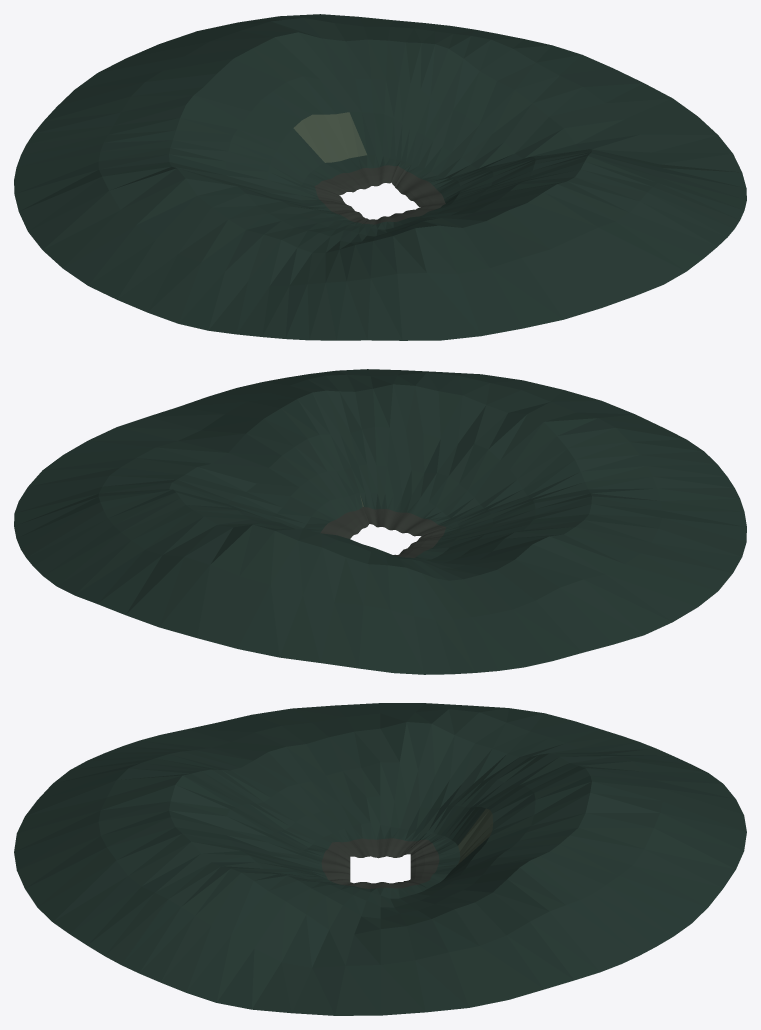
Rendered from SM_Forest_Horizon_Test_156000x156000x21520.fbx.
The picture shows the model from 3 angles, top to bottom: view 1: azimuth 30°, elevation 25°; view 2: azimuth 150°, elevation 25°; view 3: azimuth 270°, elevation 25°; orthographic projection.
Visible parts, largest first — view 1: SM_Forest_Horizon_Test_156000x156000x21520.001; view 2: SM_Forest_Horizon_Test_156000x156000x21520.001; view 3: SM_Forest_Horizon_Test_156000x156000x21520.001.
Part boxes in pixels (x1,y1,x2,y2): SM_Forest_Horizon_Test_156000x156000x21520.001: (14, 14, 746, 340); SM_Forest_Horizon_Test_156000x156000x21520.001: (14, 369, 746, 674); SM_Forest_Horizon_Test_156000x156000x21520.001: (14, 703, 746, 1015).
Size of the model in its own units: 1560 by 210 by 1560.
